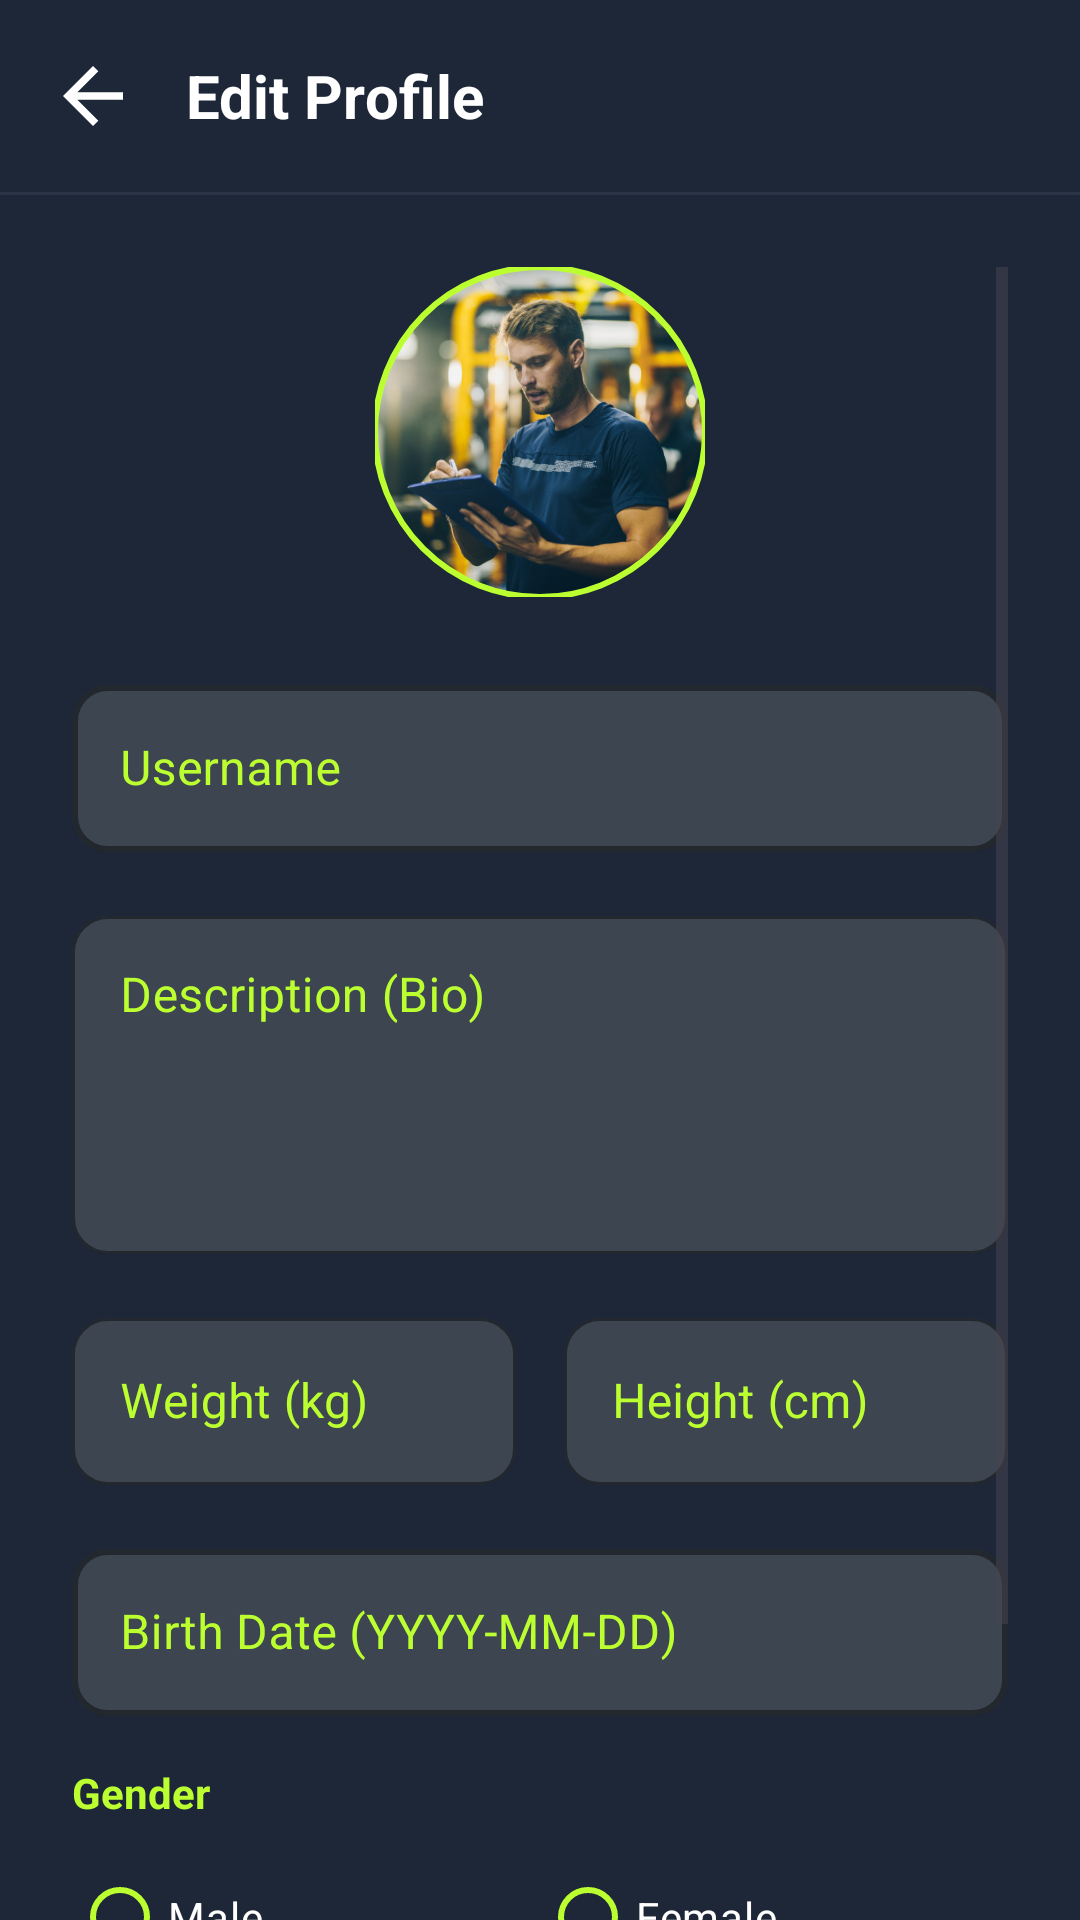

Point at icon controls on the screen. Image size 1080px×1920px, points as (x,y).
coach: (540,432)
Go Back: (93,96)
